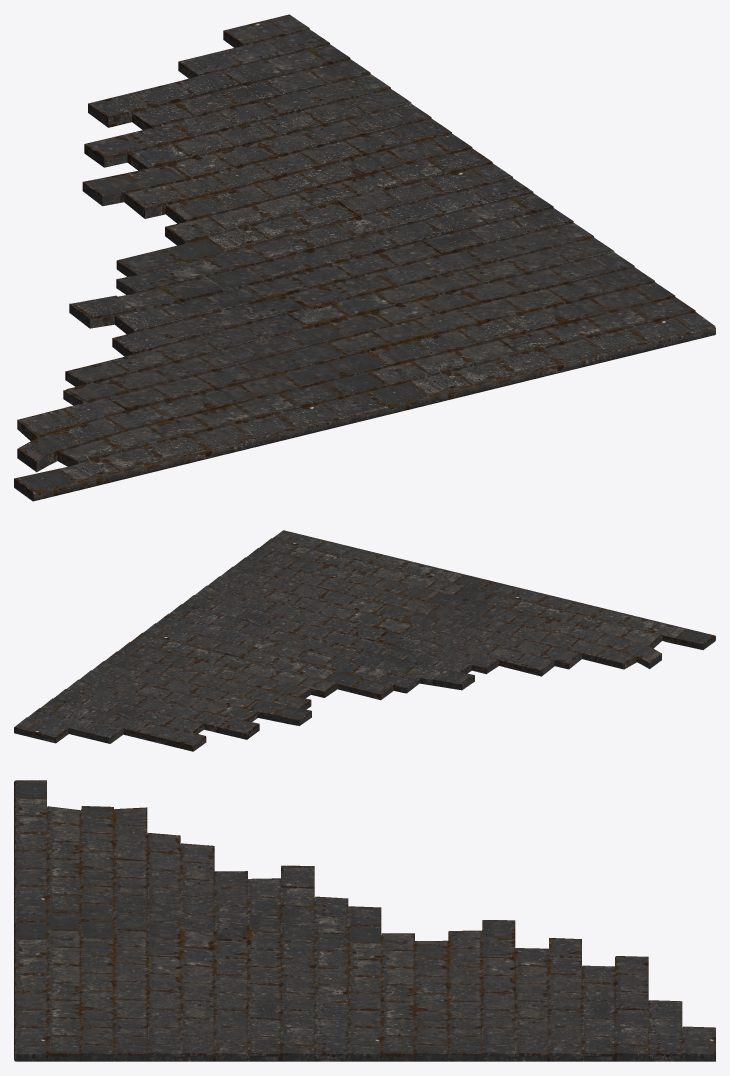
Rendered from RoofBrokenR.fbx.
The picture shows the model from 3 angles, top to bottom: view 1: azimuth 30°, elevation 25°; view 2: azimuth 150°, elevation 25°; view 3: azimuth 270°, elevation 25°; orthographic projection. The views are drawn at different scales.
Visible parts, largest first — view 1: RoofBrokenR_LOD0; view 2: RoofBrokenR_LOD0; view 3: RoofBrokenR_LOD0.
Boxes of the visible parts, x1,y1,x2,y2 form: RoofBrokenR_LOD0: (14, 14, 715, 501); RoofBrokenR_LOD0: (14, 530, 715, 751); RoofBrokenR_LOD0: (14, 780, 715, 1061).
Size of what is drawn, in the model's own units: 388 by 12.52 by 420.
